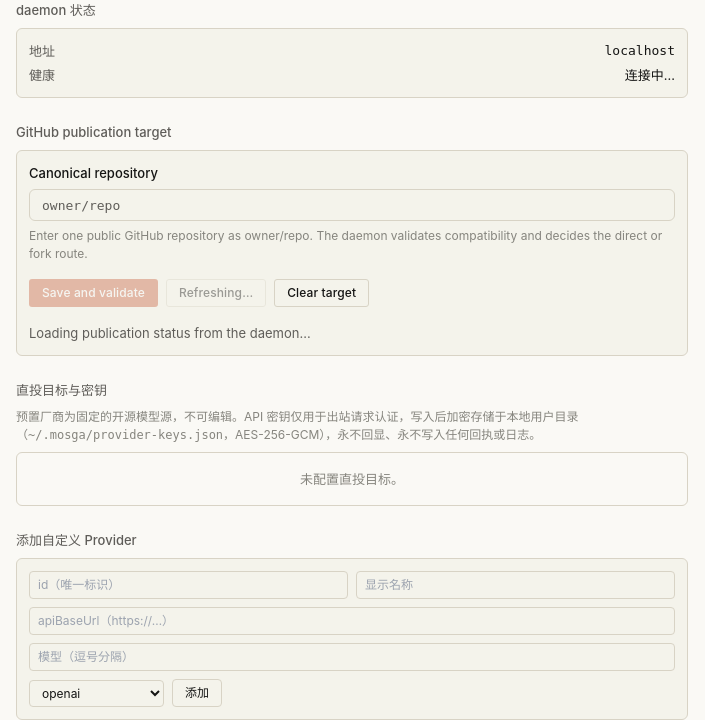
Test: SettingsPage — custom providers › adds a custom provider via the four-format form and lists it
The width and height of the screenshot is (705, 720).
(page scrolled)
Type "my-llm" into the field with test id "custom-provider-id" at (188, 585), box [29,571,348,599]
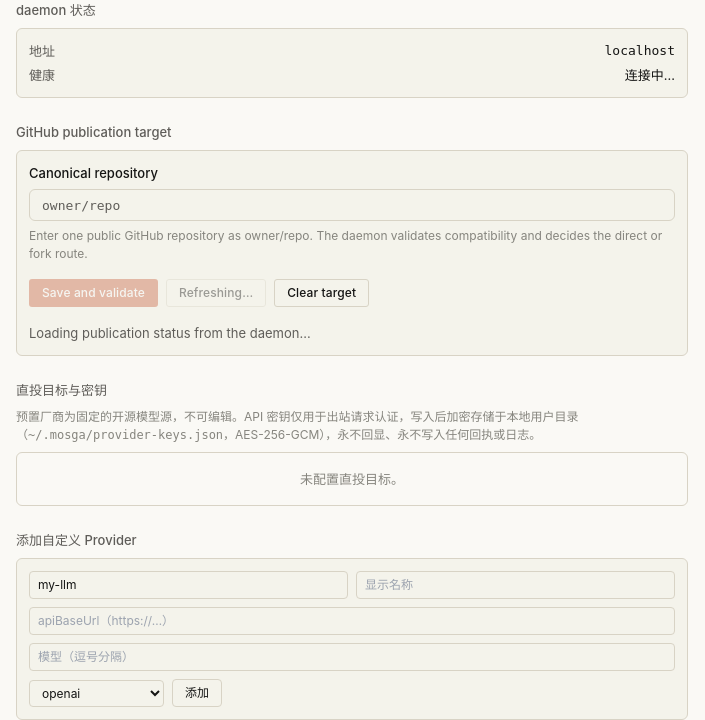
Type "My LLM" into the field with test id "custom-provider-name" at (516, 585), box [356,571,675,599]
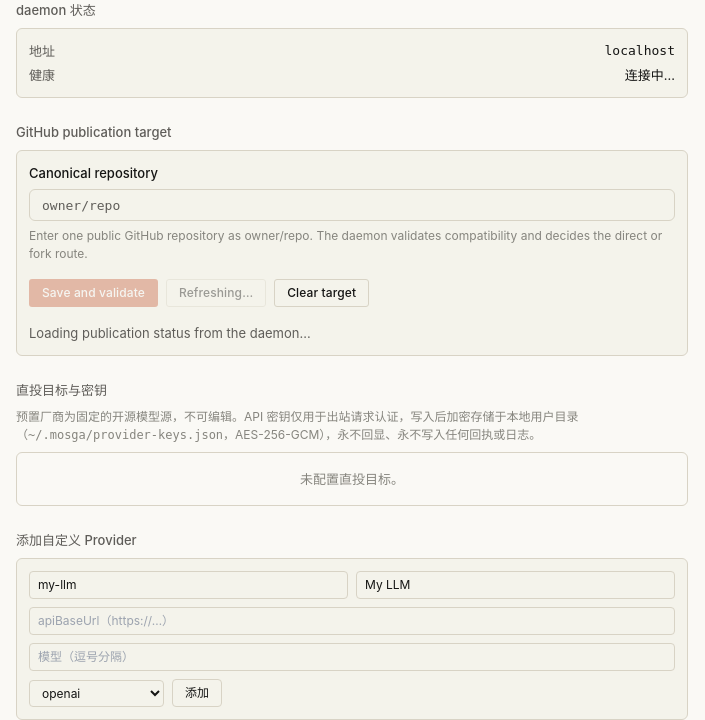
Type "https://api.example.com" into the field with test id "custom-provider-base-url" at (352, 621), box [29,607,675,635]
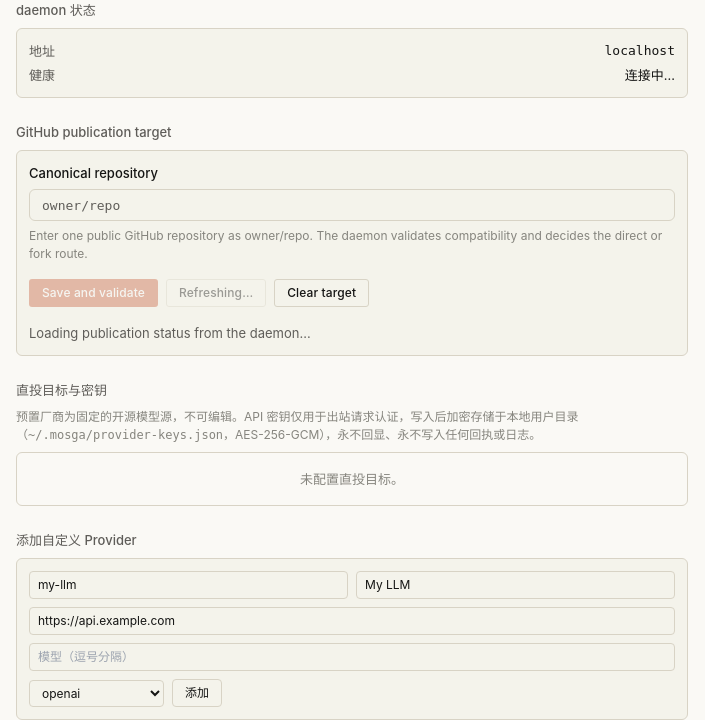
Type "m-1, m-2" into the field with test id "custom-provider-models" at (352, 657), box [29,643,675,671]
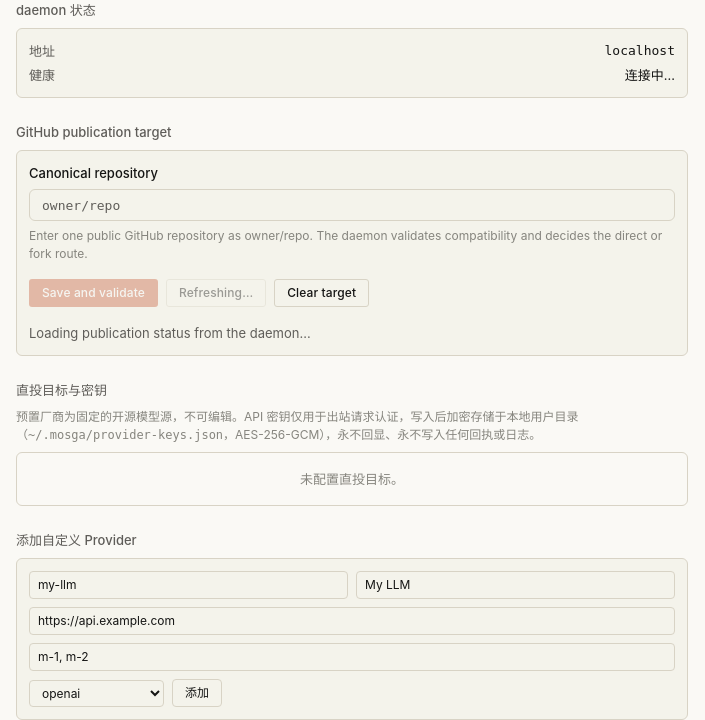
Select "gemini" in the dropdown with test id "custom-provider-format" at (96, 693), box [29,680,164,706]
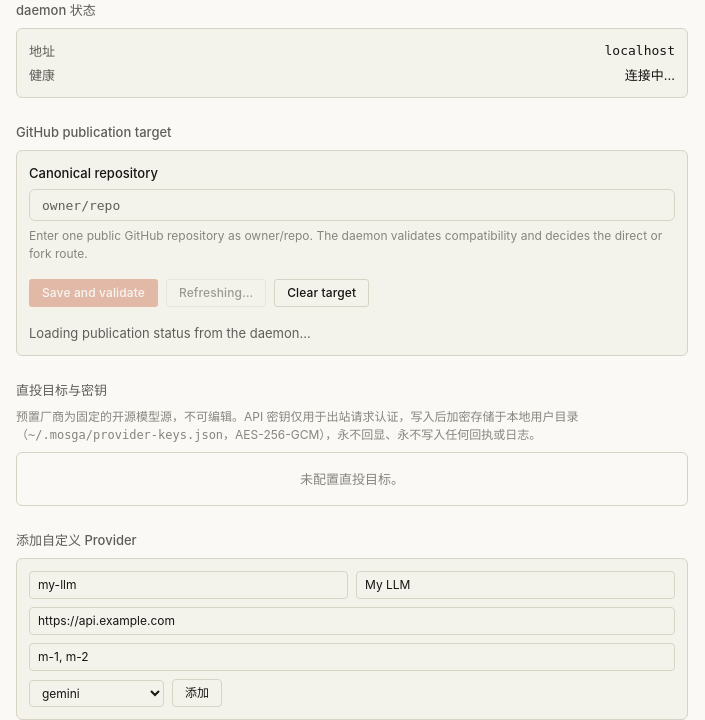
Click the button with test id "custom-provider-submit" at (197, 693), box [172,679,222,707]
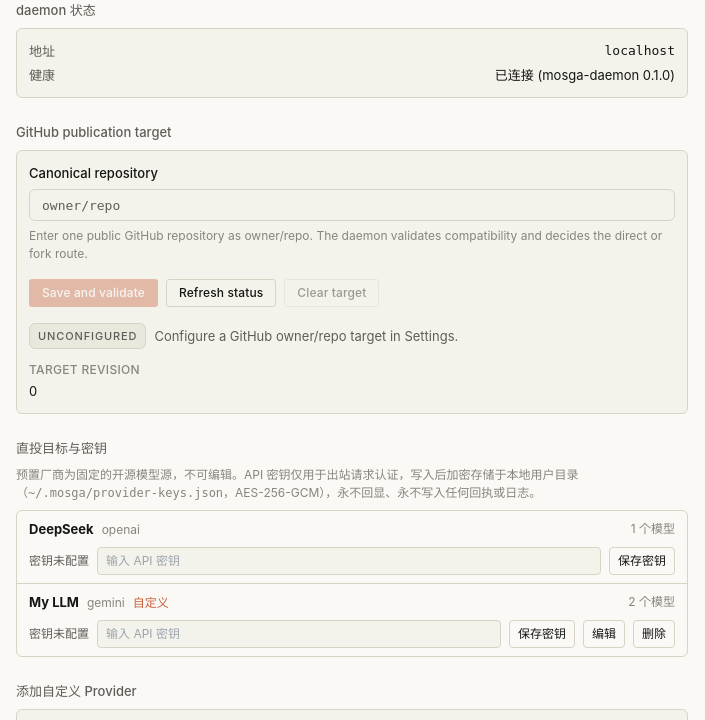
expect the button with test id "provider-edit-my-llm" is shown: met, box [583,620,625,648]
expect the button with test id "provider-delete-my-llm" is shown: met, box [633,620,675,648]
